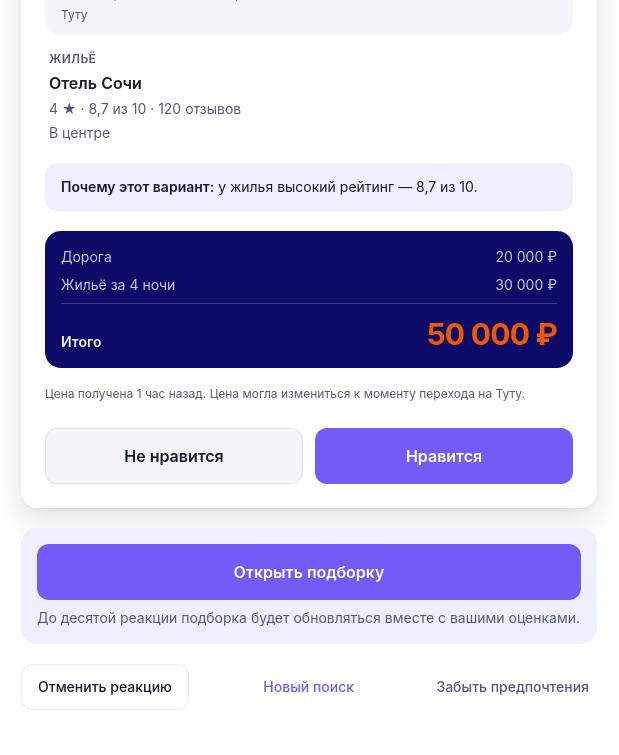
Scenario: swipe feed › shows the shortlist failure empty
The image size is (619, 755).
(page scrolled)
Click the button "Открыть подборку" at point(309, 572), box 37,544 -> 581,600
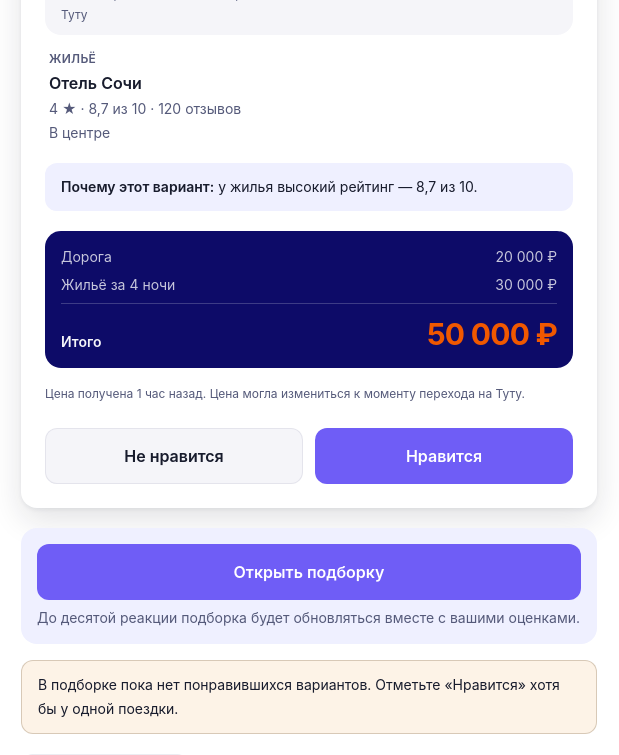
Now the message shows "нет понравившихся вариантов", box 38,676 -> 560,717
